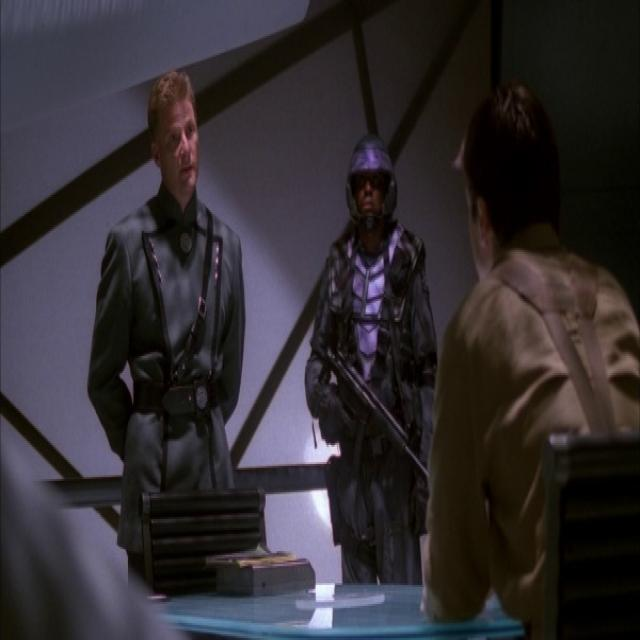rifle: (311, 334, 438, 493)
